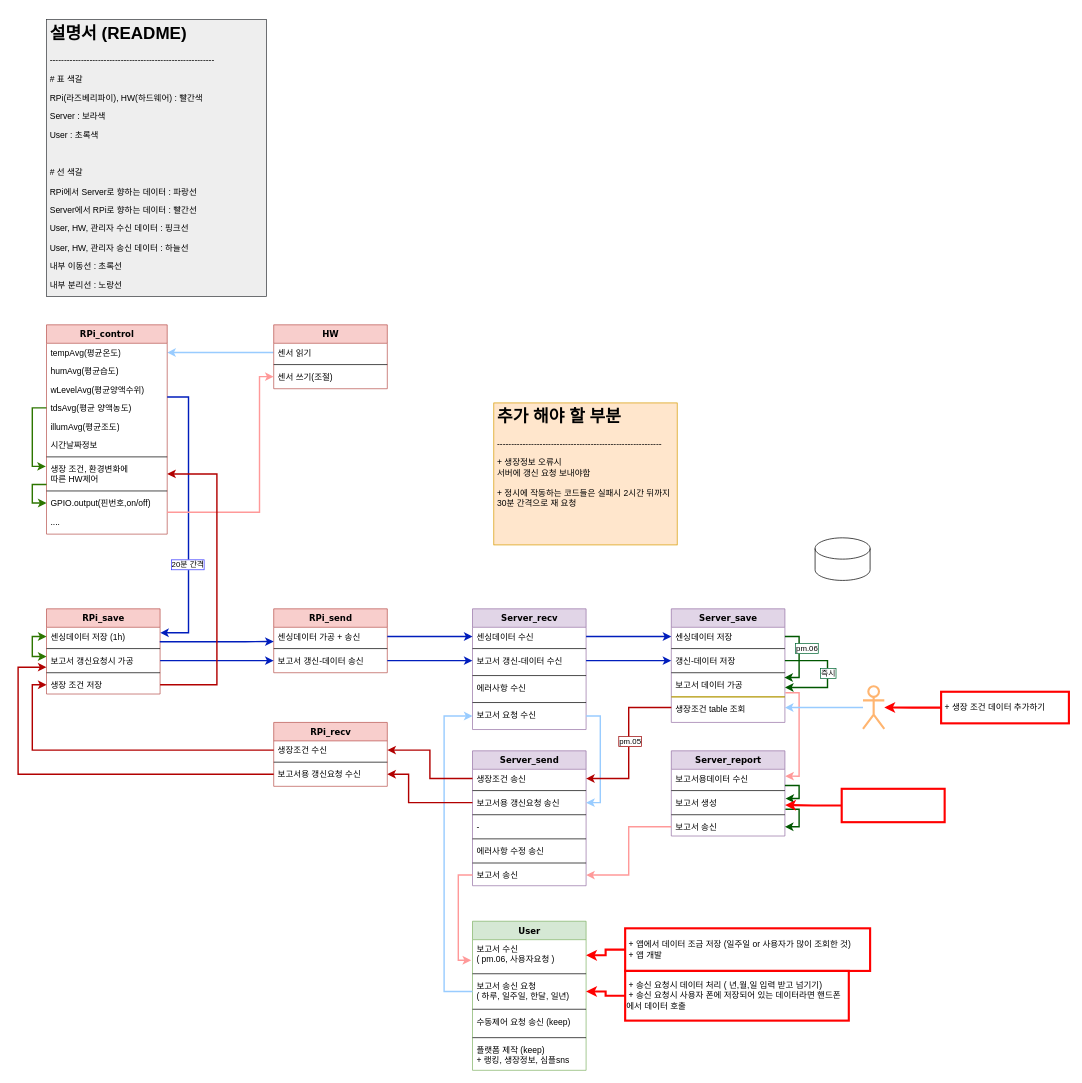
Image size: 1082x1083. Some labels were removed from this diagram. The shapes that lost their labels are listed below. From the top down, each one's centre as x and y in pixels, then its label:
(x=873, y=707): admin
(x=892, y=805): + pdf 해서 만들어보기 + docx도 가능할꺼 같음
